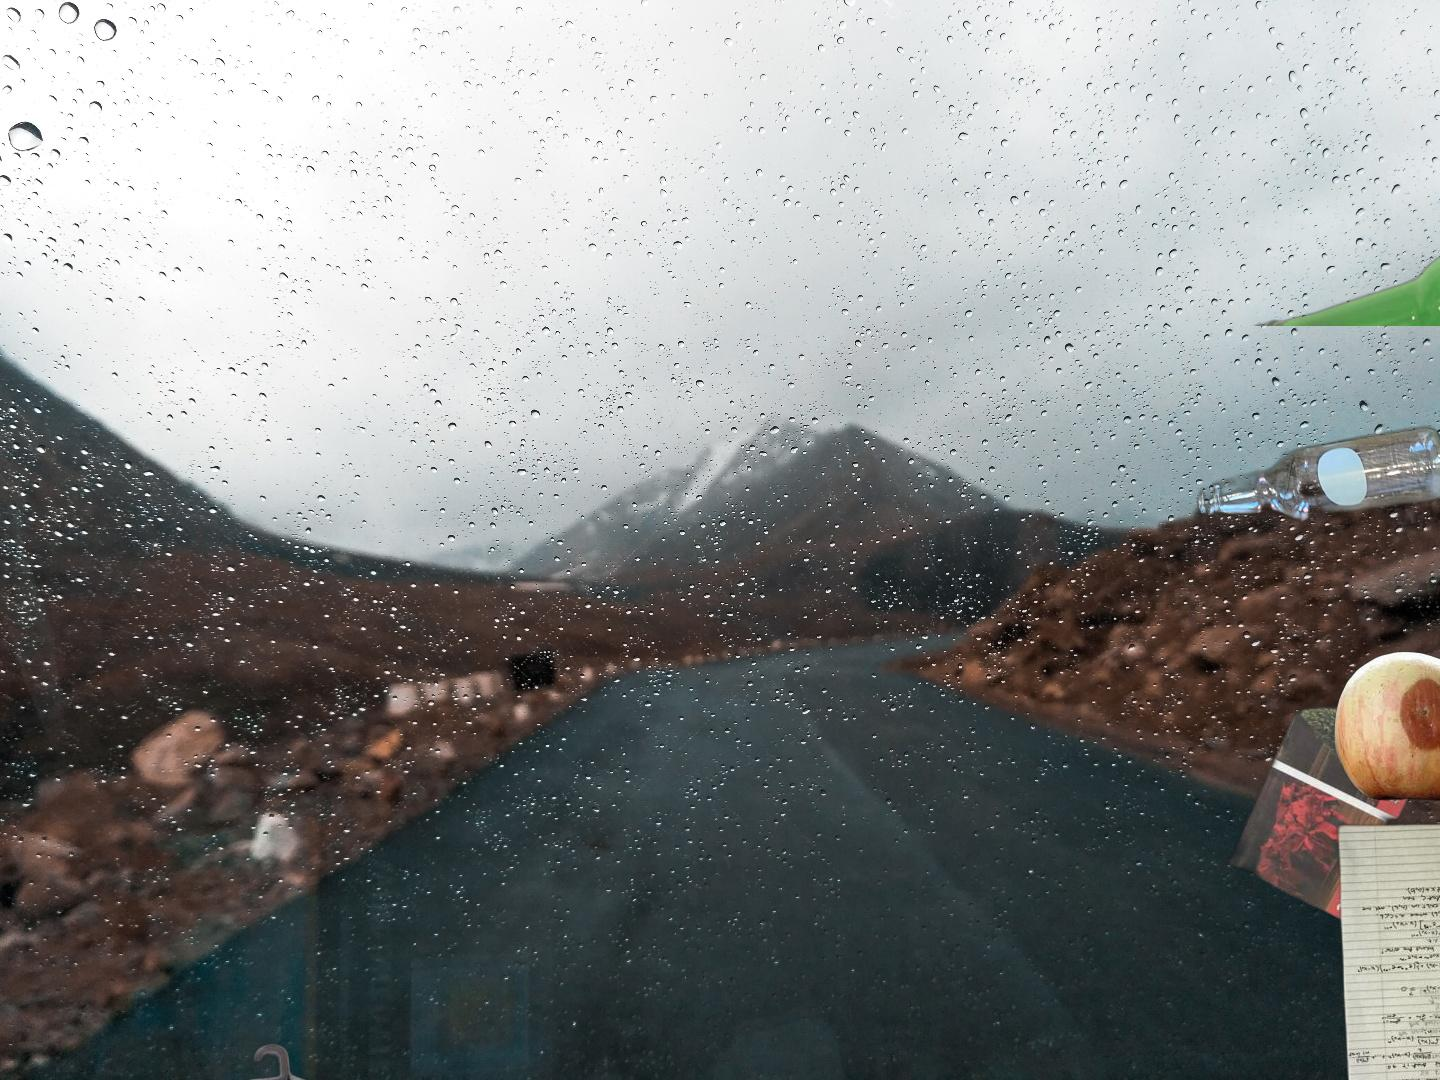biological: (1331, 649, 1440, 833)
clothes: (70, 1040, 471, 1080)
glass: (1193, 419, 1440, 526), (1250, 205, 1440, 326)
paper: (1181, 678, 1440, 1061), (1332, 815, 1440, 1080)
